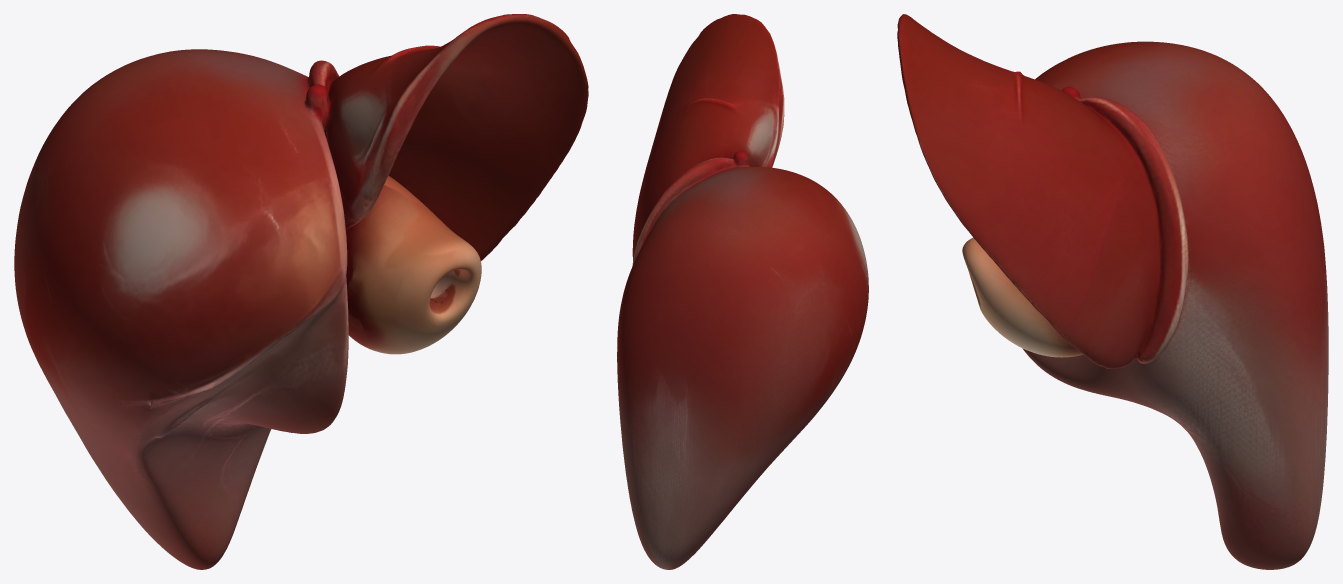
File: vet_v2_organ_horse_liver.glb
3 views of the same model, side by side, from view 1: azimuth 30°, elevation 25°; view 2: azimuth 150°, elevation 25°; view 3: azimuth 270°, elevation 25° (orthographic). The views are drawn at different scales.
Visible parts, largest first — view 1: model; view 2: model; view 3: model.
Boxes of the visible parts, x1,y1,x2,y2 form: model: (14,14,588,569); model: (617,14,868,569); model: (897,14,1328,569).
Size of the model in its own units: 1.2 by 1.9 by 1.26.
1 material, 1 textured.
